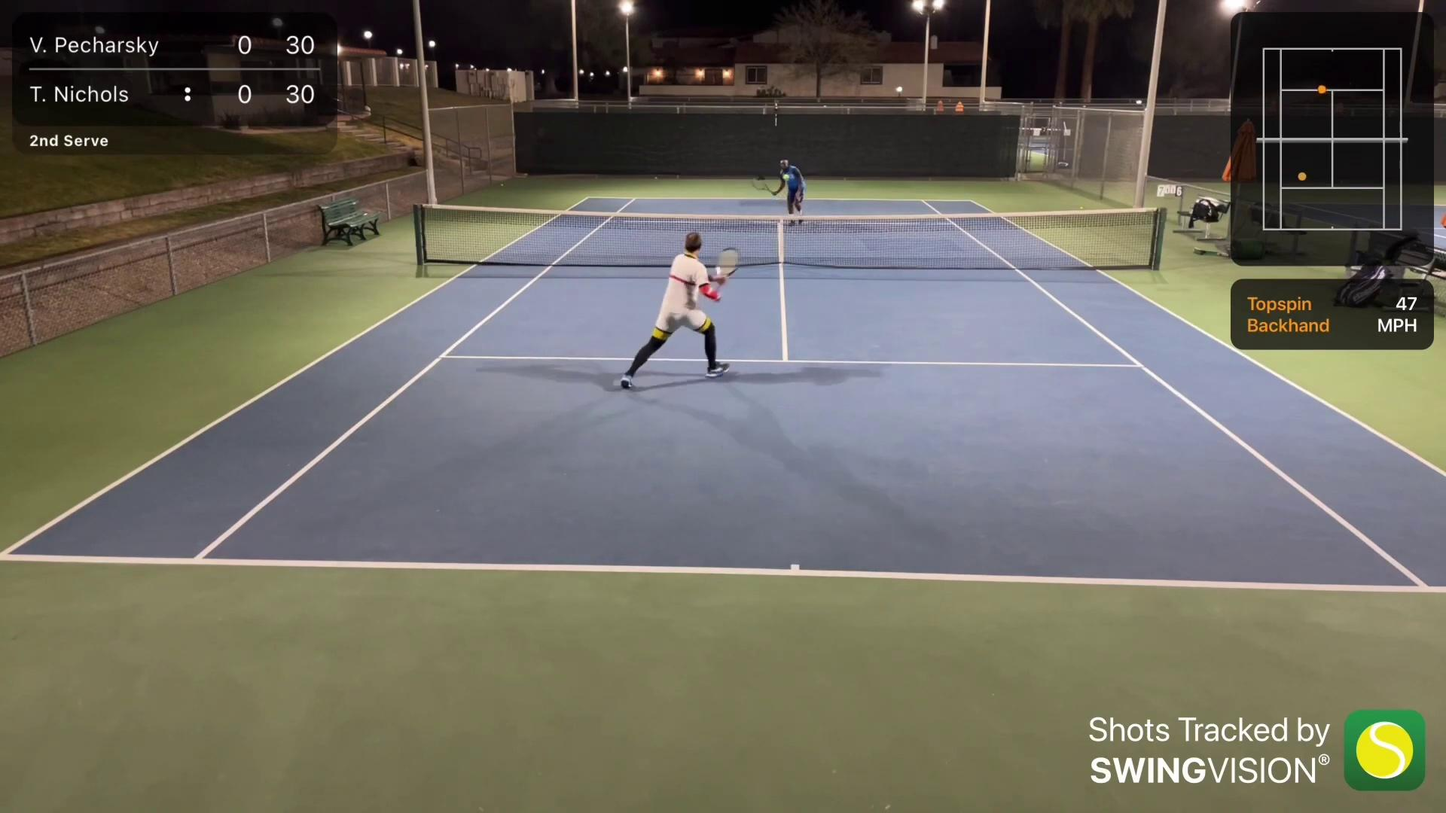ball: (782, 174, 791, 181), (653, 175, 659, 181), (822, 104, 827, 109), (500, 183, 503, 187)
